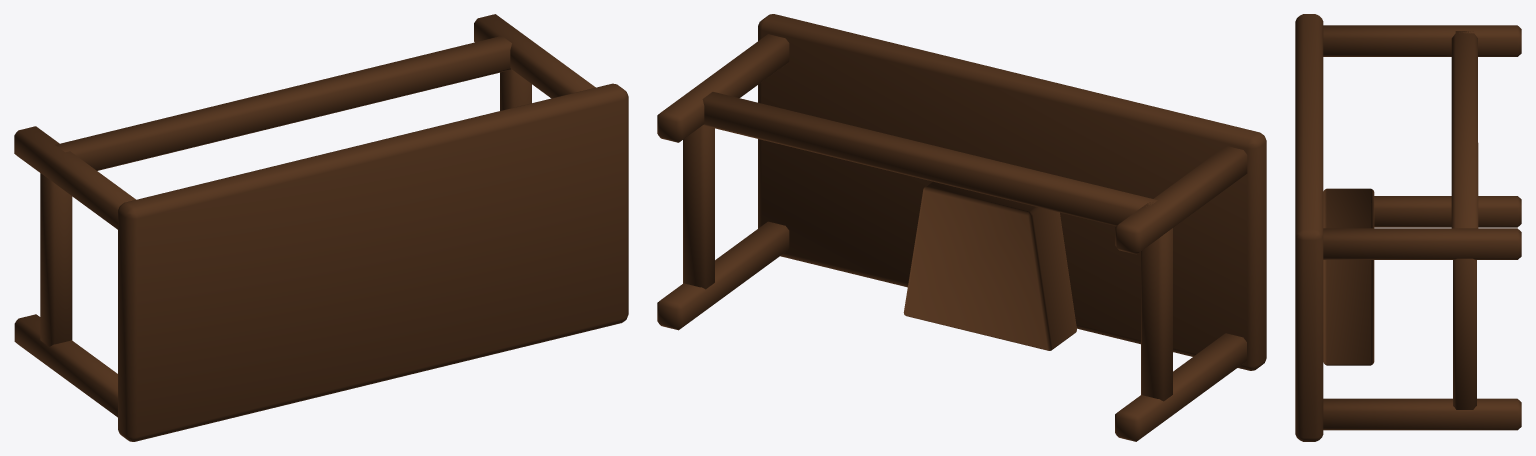
The model's file is workbench.fbx.
3 renders of one model, left to right at view 1: azimuth 30°, elevation 25°; view 2: azimuth 150°, elevation 25°; view 3: azimuth 270°, elevation 25°, orthographic. The views are drawn at different scales.
Parts seen in each view (by area): view 1: table, pieds; view 2: table, pieds, tiroir; view 3: pieds, table, tiroir.
Part boxes in pixels (left/top/right/bottom): table: left=118, top=83, right=628, bottom=441; pieds: left=14, top=14, right=595, bottom=417; table: left=758, top=14, right=1266, bottom=370; pieds: left=657, top=34, right=1247, bottom=441; tiroir: left=903, top=181, right=1076, bottom=350; pieds: left=1323, top=25, right=1521, bottom=430; table: left=1295, top=14, right=1323, bottom=441; tiroir: left=1323, top=188, right=1374, bottom=365.
Size of the model in its own units: 4.49 by 2.07 by 1.93.
